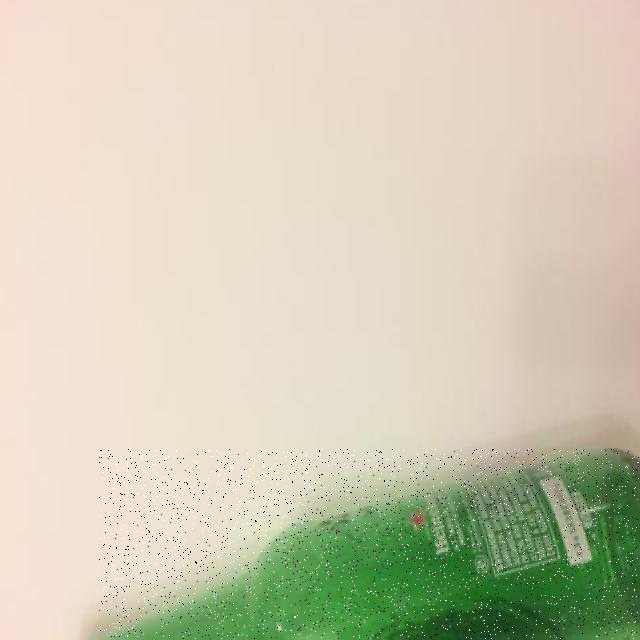glass: (102, 450, 639, 639)
